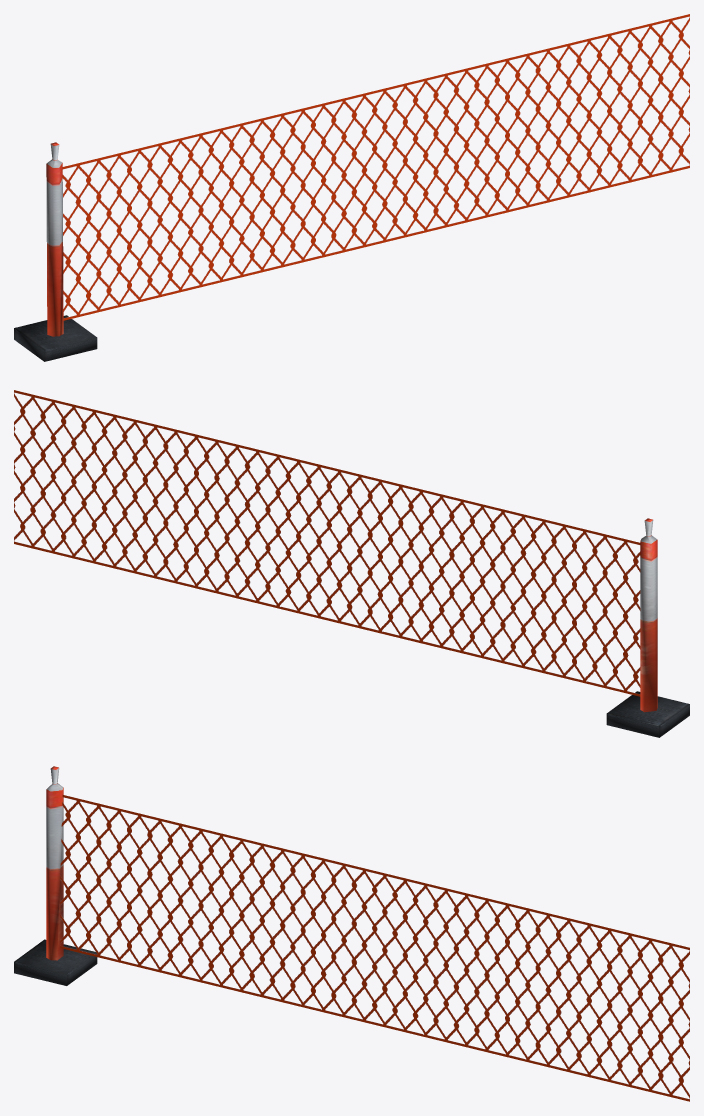
Rendered from orangeFence_flat_3.fbx.
3 renders of one model, top to bottom at view 1: azimuth 30°, elevation 25°; view 2: azimuth 150°, elevation 25°; view 3: azimuth 330°, elevation 25°, orthographic.
Visible parts, largest first — view 1: Plane01, Duplicate01, Cylinder02, Box03; view 2: Plane01, Duplicate01, Cylinder02, Box03; view 3: Plane01, Duplicate01, Cylinder02, Box03.
Boxes of the visible parts, x1,y1,x2,y2 form: Plane01: (62, 14, 689, 320); Duplicate01: (63, 14, 689, 320); Cylinder02: (46, 142, 63, 336); Box03: (14, 315, 97, 361); Plane01: (14, 390, 640, 696); Duplicate01: (14, 390, 640, 696); Cylinder02: (640, 518, 657, 712); Box03: (606, 691, 689, 737); Plane01: (60, 795, 689, 1101); Duplicate01: (61, 795, 689, 1101); Cylinder02: (46, 766, 63, 960); Box03: (14, 939, 97, 985).
Size of the model in its own units: 375 by 109 by 30.
